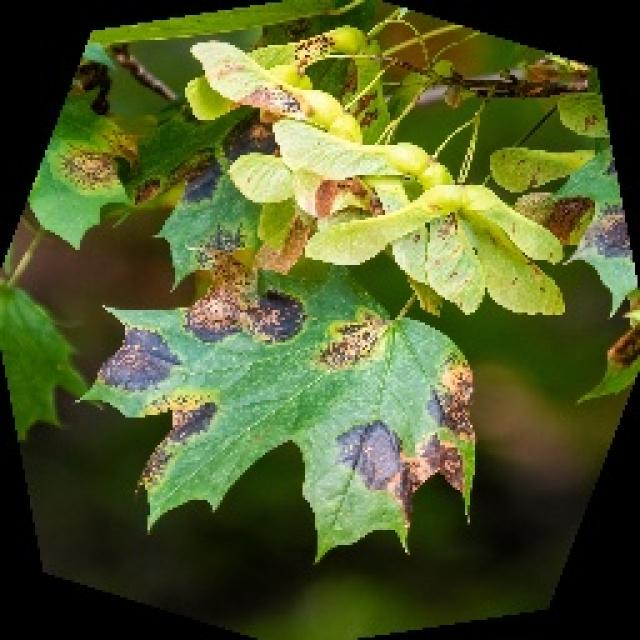Tar_Spot: (75, 240, 477, 562)
